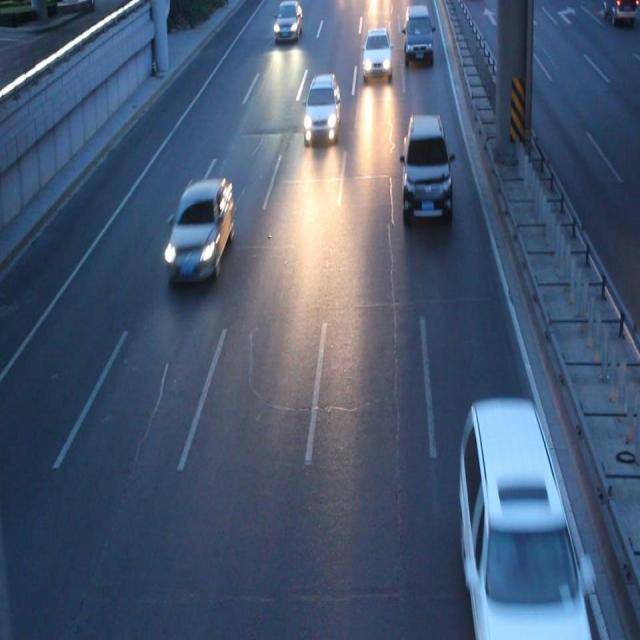car: (166, 179, 232, 276), (402, 116, 450, 212), (303, 74, 339, 138), (362, 30, 391, 76), (273, 1, 302, 37)
truck: (458, 403, 584, 640), (404, 1, 432, 59)
